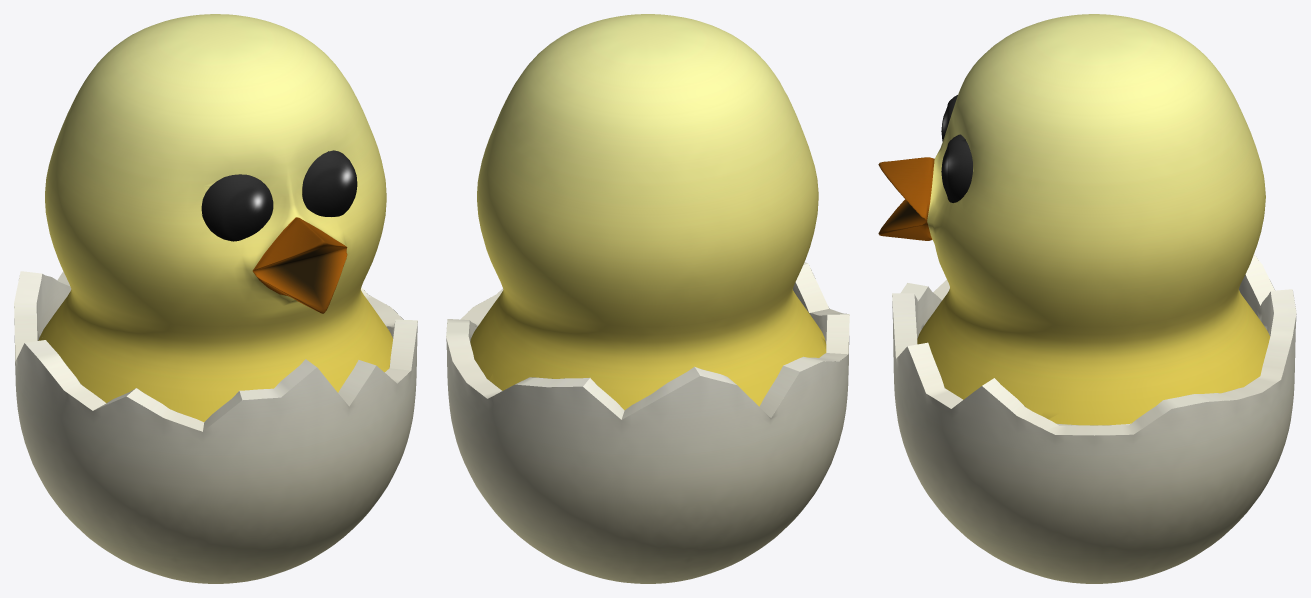
The model's file is egg.gltf.
3 renders of one model, left to right at view 1: azimuth 30°, elevation 25°; view 2: azimuth 150°, elevation 25°; view 3: azimuth 270°, elevation 25°, orthographic.
Bounding box in the file's own units: 27.01 × 38.06 × 27.92.
Materials: 1 (1 with a texture image).
